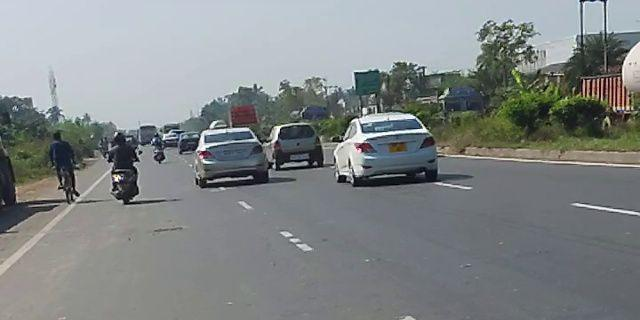Car: (329, 112, 442, 189), (193, 127, 272, 190), (266, 120, 327, 174)
Cycle: (45, 124, 83, 210)
Motorbike: (103, 130, 145, 208), (146, 128, 168, 166)
